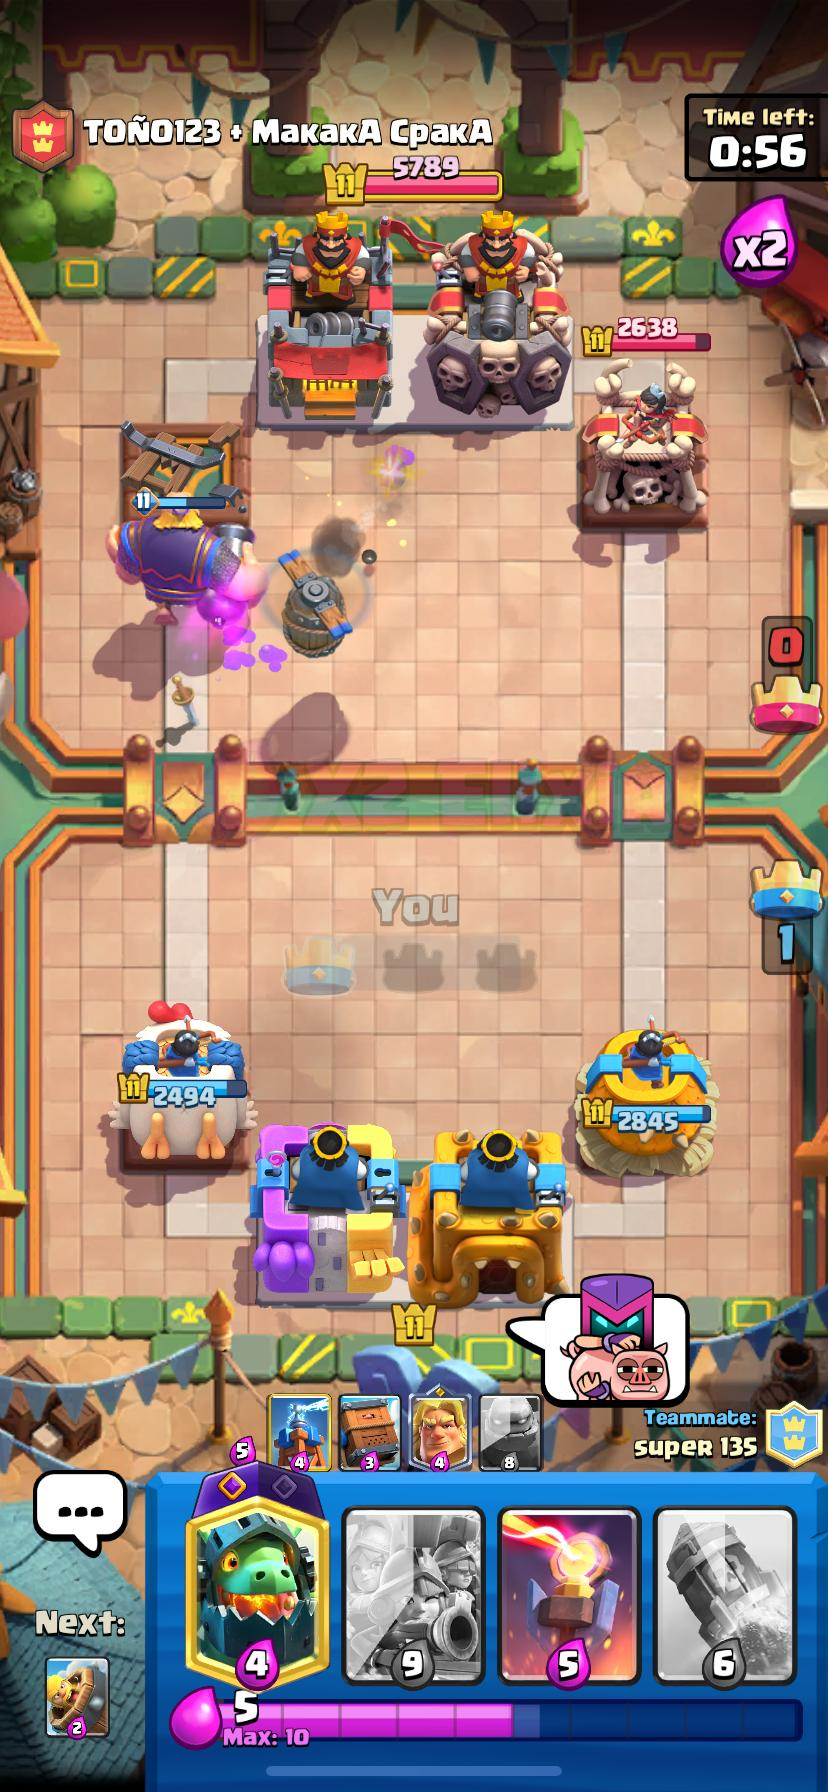EKingTower: (424, 213, 571, 423), (263, 211, 391, 425)
EnemyPrincessTower: (580, 363, 706, 521)
OEVRoyalG: (106, 512, 268, 643)
OFlyingMachine: (279, 550, 351, 658)
OwnKingTower: (408, 1129, 566, 1307), (252, 1123, 401, 1302)
OwnPrincessTower: (109, 1001, 255, 1161), (576, 1018, 716, 1175)
TowerDown: (121, 422, 247, 525)
